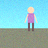person: (25, 7, 37, 31)
